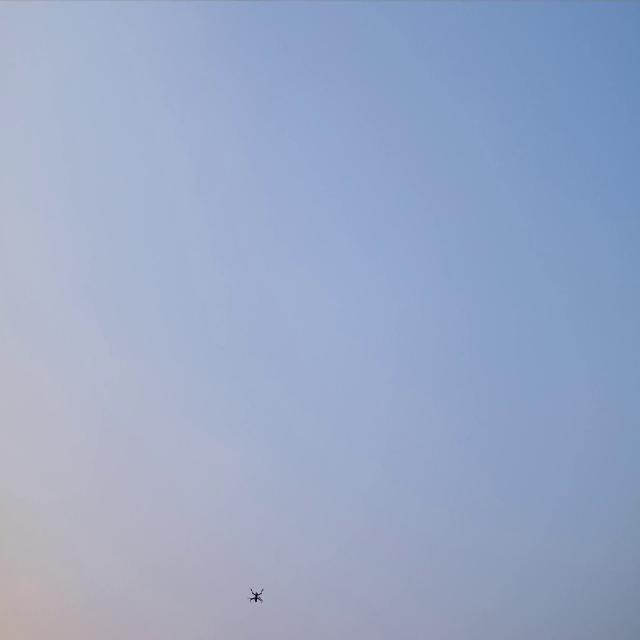UAV: (246, 586, 265, 605)
